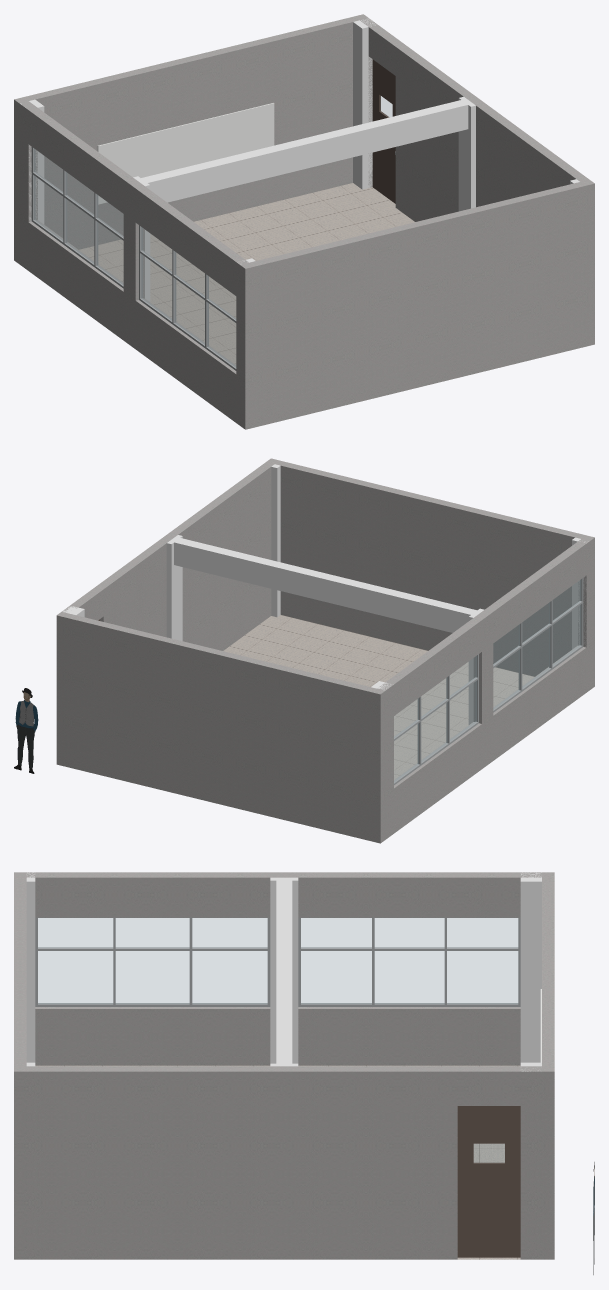
File: salon.glb
The picture shows the model from 3 angles, top to bottom: view 1: azimuth 30°, elevation 25°; view 2: azimuth 150°, elevation 25°; view 3: azimuth 270°, elevation 25°; orthographic projection. The views are drawn at different scales.
Visible parts, largest first — view 1: Salon; view 2: Salon, ThomThom; view 3: Salon.
Part boxes in pixels (<box>): Salon: <box>14,14,594,429</box>; Salon: <box>56,458,594,843</box>; ThomThom: <box>14,688,38,773</box>; Salon: <box>14,872,554,1259</box>.
Size of the model in its own units: 8.13 by 3.3 by 9.24.
Materials: 27 (6 with a texture image).
